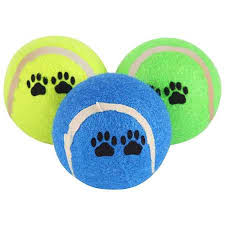blue ball: (51, 72, 173, 191)
